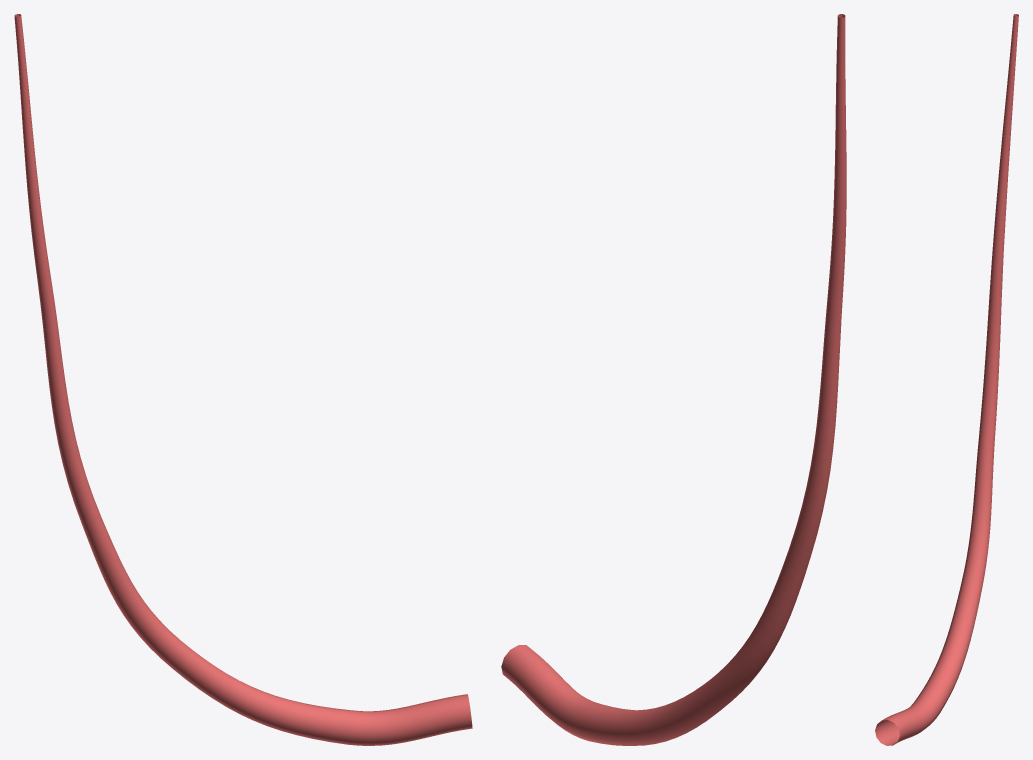
The model's file is Middle_meningeal_artery.r_BezierCurve.097.glb.
3 views of the same model, side by side, from view 1: azimuth 30°, elevation 25°; view 2: azimuth 150°, elevation 25°; view 3: azimuth 270°, elevation 25° (orthographic). The views are drawn at different scales.
Visible parts, largest first — view 1: Middle_meningeal_artery.r_BezierCurve.097; view 2: Middle_meningeal_artery.r_BezierCurve.097; view 3: Middle_meningeal_artery.r_BezierCurve.097.
Boxes of the visible parts, x1,y1,x2,y2 form: Middle_meningeal_artery.r_BezierCurve.097: (14, 14, 472, 745); Middle_meningeal_artery.r_BezierCurve.097: (501, 14, 846, 745); Middle_meningeal_artery.r_BezierCurve.097: (875, 14, 1018, 745).
Bounding box in the file's own units: 0.0126 × 0.024 × 0.00522.
